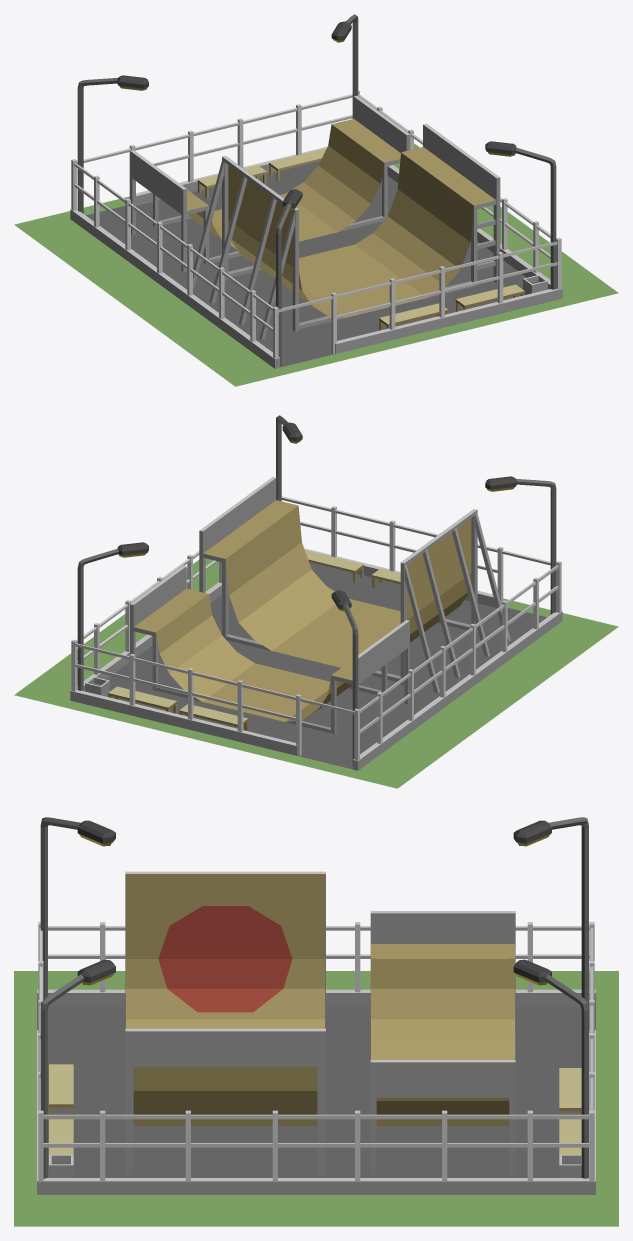
Rendered from landscape_entertainment_009.fbx.
The picture shows the model from 3 angles, top to bottom: view 1: azimuth 30°, elevation 25°; view 2: azimuth 150°, elevation 25°; view 3: azimuth 270°, elevation 25°; orthographic projection. The views are drawn at different scales.
Parts seen in each view (by area): view 1: landscape_entertainment_009; view 2: landscape_entertainment_009; view 3: landscape_entertainment_009.
Boxes of the visible parts, x1=… form: landscape_entertainment_009: x1=14, y1=14, x2=618, y2=386; landscape_entertainment_009: x1=14, y1=415, x2=618, y2=788; landscape_entertainment_009: x1=14, y1=817, x2=618, y2=1226.
Size of the model in its own units: 1600 by 616 by 1600.
